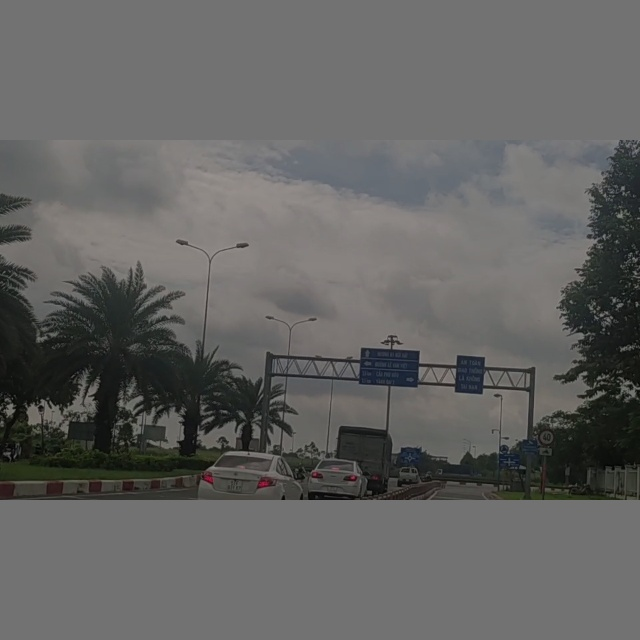P.127*40: (536, 427, 555, 445)
S.505a*Xe may: (539, 446, 554, 457)
